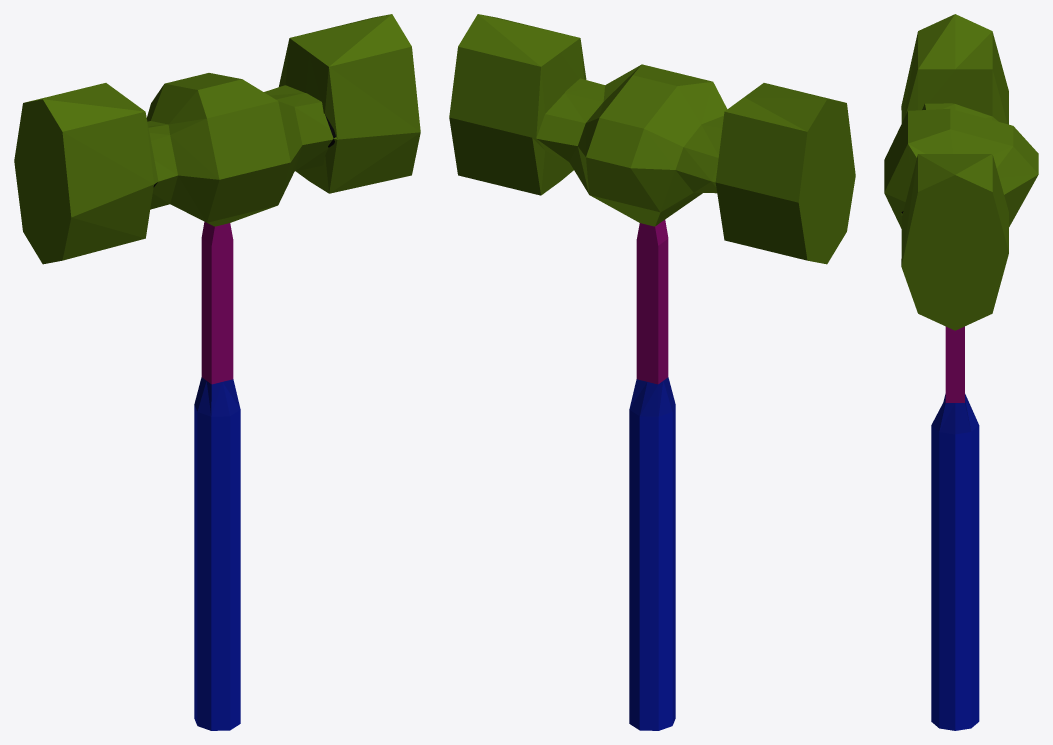
The model's file is HAMMERCOLOR.fbx.
3 views of the same model, side by side, from view 1: azimuth 30°, elevation 25°; view 2: azimuth 150°, elevation 25°; view 3: azimuth 270°, elevation 25° (orthographic). The views are drawn at different scales.
Parts seen in each view (by area): view 1: Hammer_remodel:hammermesh; view 2: Hammer_remodel:hammermesh; view 3: Hammer_remodel:hammermesh.
Boxes of the visible parts, bbox=[...] form: Hammer_remodel:hammermesh: bbox=[14, 14, 420, 730]; Hammer_remodel:hammermesh: bbox=[449, 14, 855, 730]; Hammer_remodel:hammermesh: bbox=[884, 14, 1038, 730].
Bounding box in the file's own units: 11.63 × 21.14 × 4.72.
